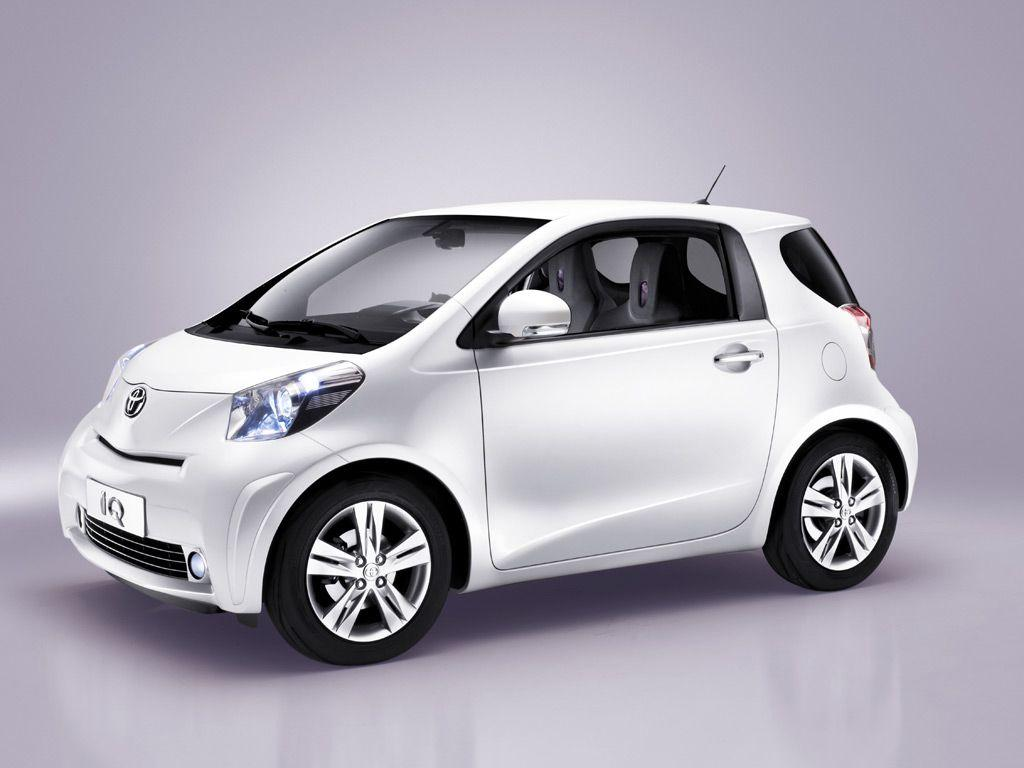windshield: (164, 210, 556, 358)
